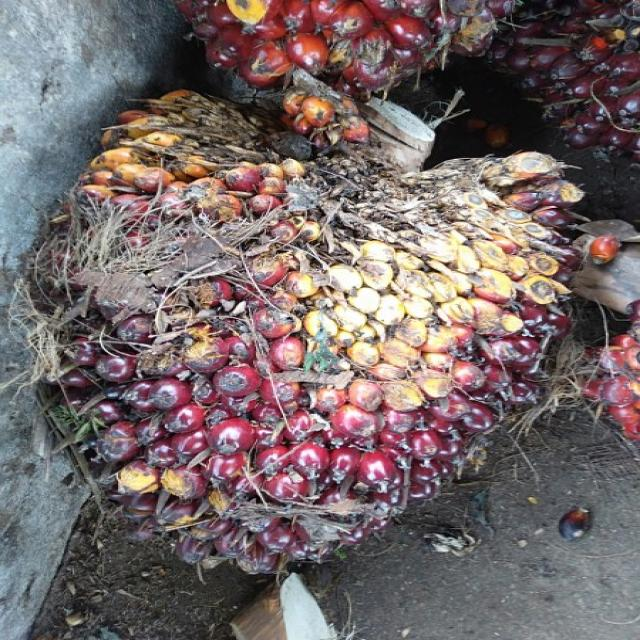fraksi 1: (52, 89, 590, 583)
